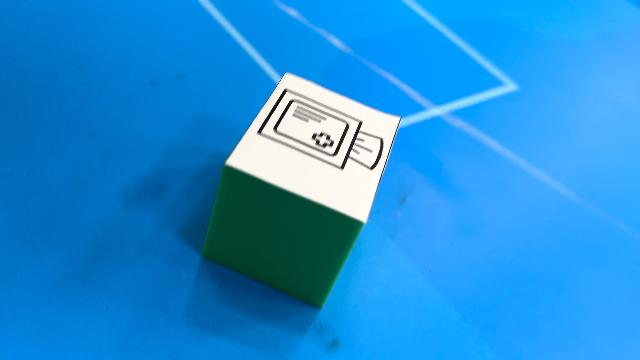napkin: (200, 70, 404, 310)
